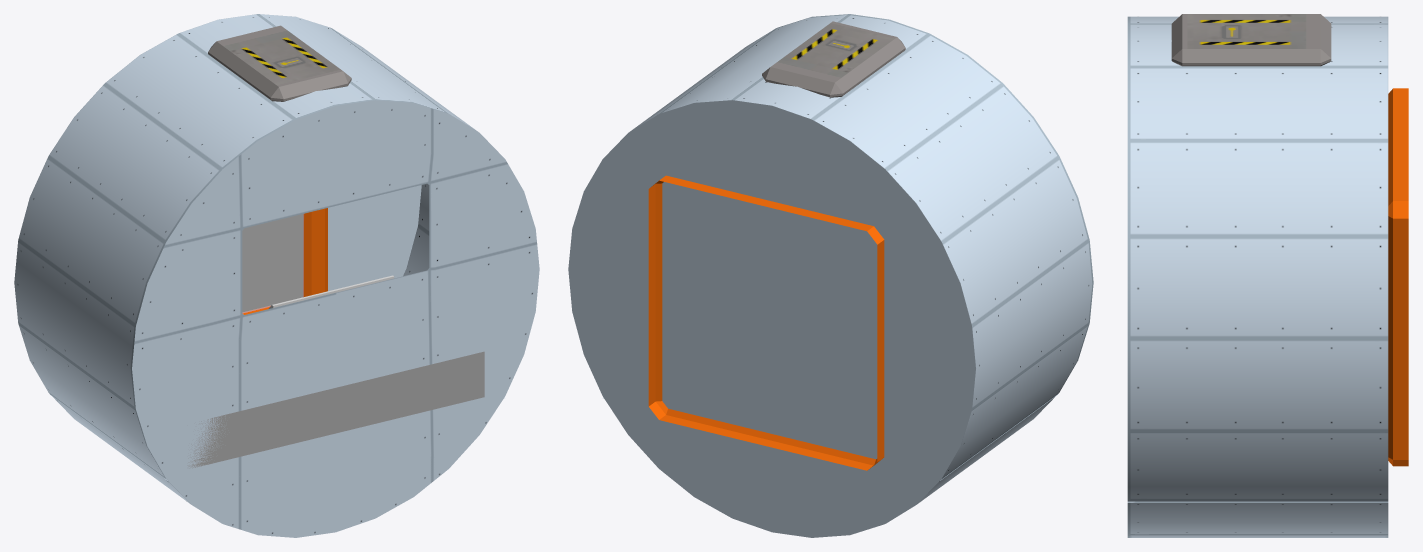
File: NE_MEP825_Internal.fbx
3 views of the same model, side by side, from view 1: azimuth 30°, elevation 25°; view 2: azimuth 150°, elevation 25°; view 3: azimuth 270°, elevation 25° (orthographic). The views are drawn at different scales.
Parts seen in each view (by area): view 1: IVA, PlatformBase, Hatch, Airlock; view 2: IVA, Hatch, Airlock; view 3: IVA, Airlock, Hatch, Floor.
Boxes of the visible parts, <box> form: IVA: <box>14,14,539,537</box>; PlatformBase: <box>187,351,484,468</box>; Hatch: <box>242,208,327,314</box>; Airlock: <box>208,25,351,101</box>; IVA: <box>568,14,1093,537</box>; Hatch: <box>648,175,884,470</box>; Airlock: <box>762,21,905,97</box>; IVA: <box>1127,16,1388,537</box>; Airlock: <box>1171,14,1331,66</box>; Hatch: <box>1388,88,1408,466</box>; Floor: <box>1127,501,1388,502</box>.
Size of the model in its own units: 3.92 by 4 by 2.15.
